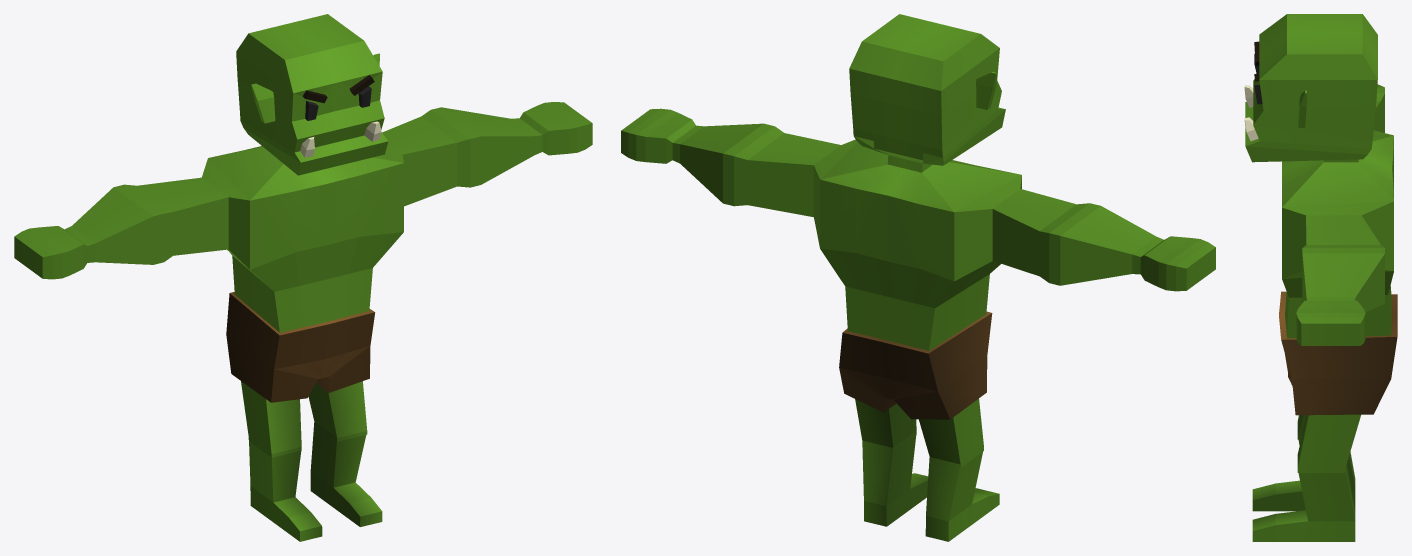
Rendered from Ork.fbx.
3 renders of one model, left to right at view 1: azimuth 30°, elevation 25°; view 2: azimuth 150°, elevation 25°; view 3: azimuth 270°, elevation 25°, orthographic. The views are drawn at different scales.
Parts seen in each view (by area): view 1: Enemy; view 2: Enemy; view 3: Enemy.
Boxes of the visible parts, x1,y1,x2,y2 form: Enemy: (14,14,592,541); Enemy: (621,14,1215,541); Enemy: (1244,14,1397,541).
Bounding box in the file's own units: 273 × 223 × 63.52.
1 material, 1 textured.
